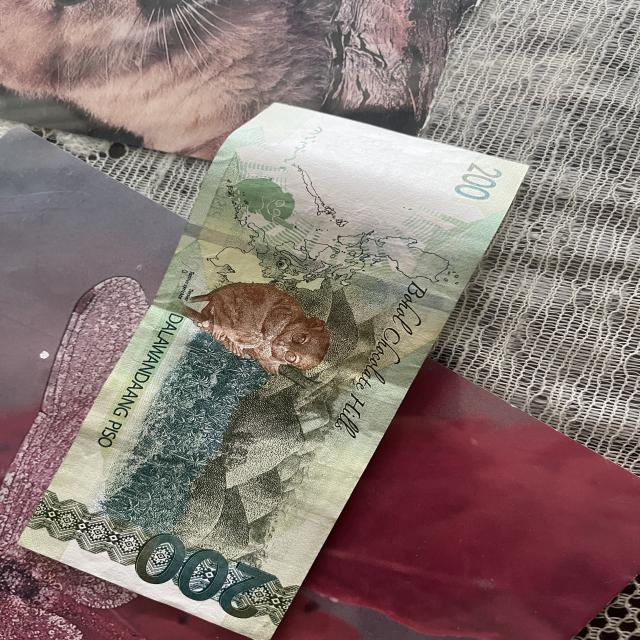200_tarsier: (163, 268, 345, 396)
200_tarsier_watermark: (206, 163, 304, 239)
